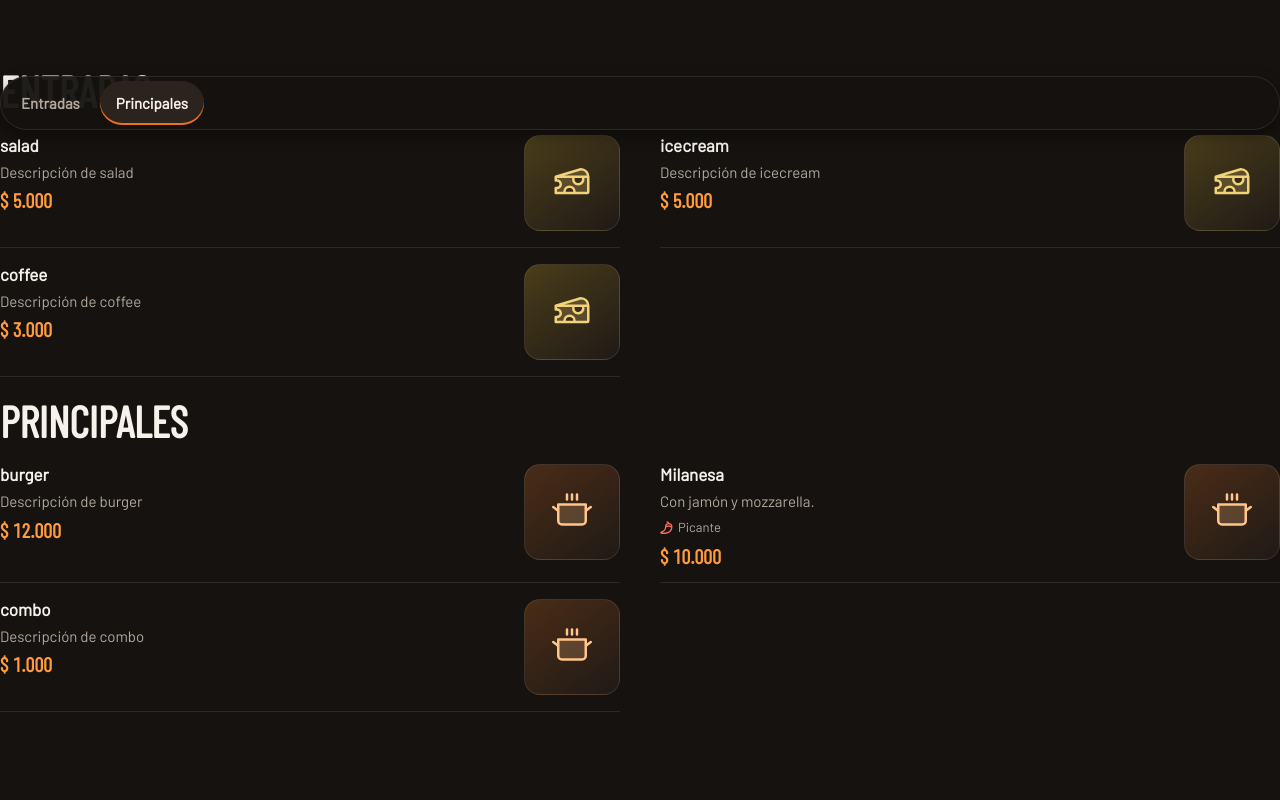
Scenario: DishSheet: ficha del plato (RF2, RF6, RF14-RF20, RF34, RF43) › opciones: máximo, no disponibles y grupos opcionales (RF15, RF17, CL6, CL8) › al llegar al máximo del grupo múltiple las demás se deshabilitan y se anuncia el límite
(page scrolled)
Expected: the navigation bar is shown, [0,76,1279,130]
Click the button "burger Descripción de burger $ 12.000".
click(24, 474)  # box [0,448,620,576]
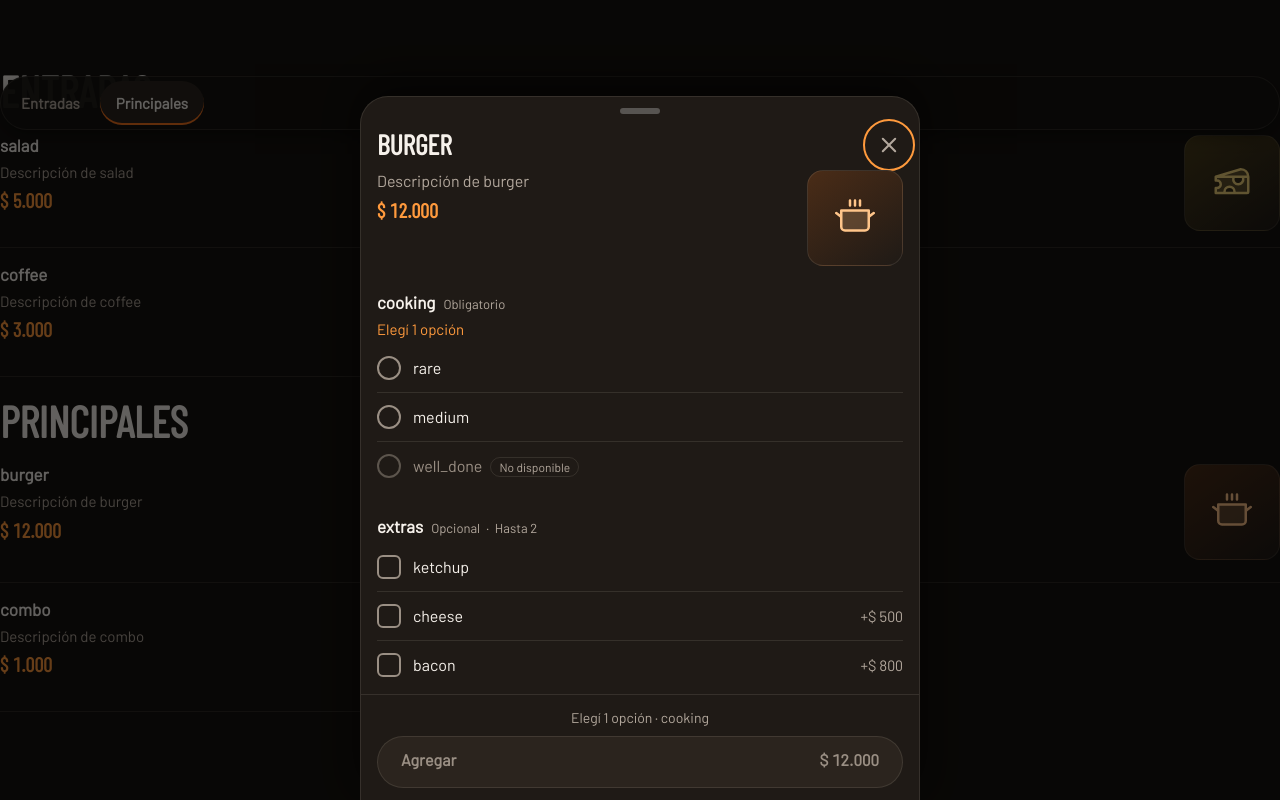
Click the checkbox labelled "ketchup".
click(423, 567)  # box [377,555,469,579]
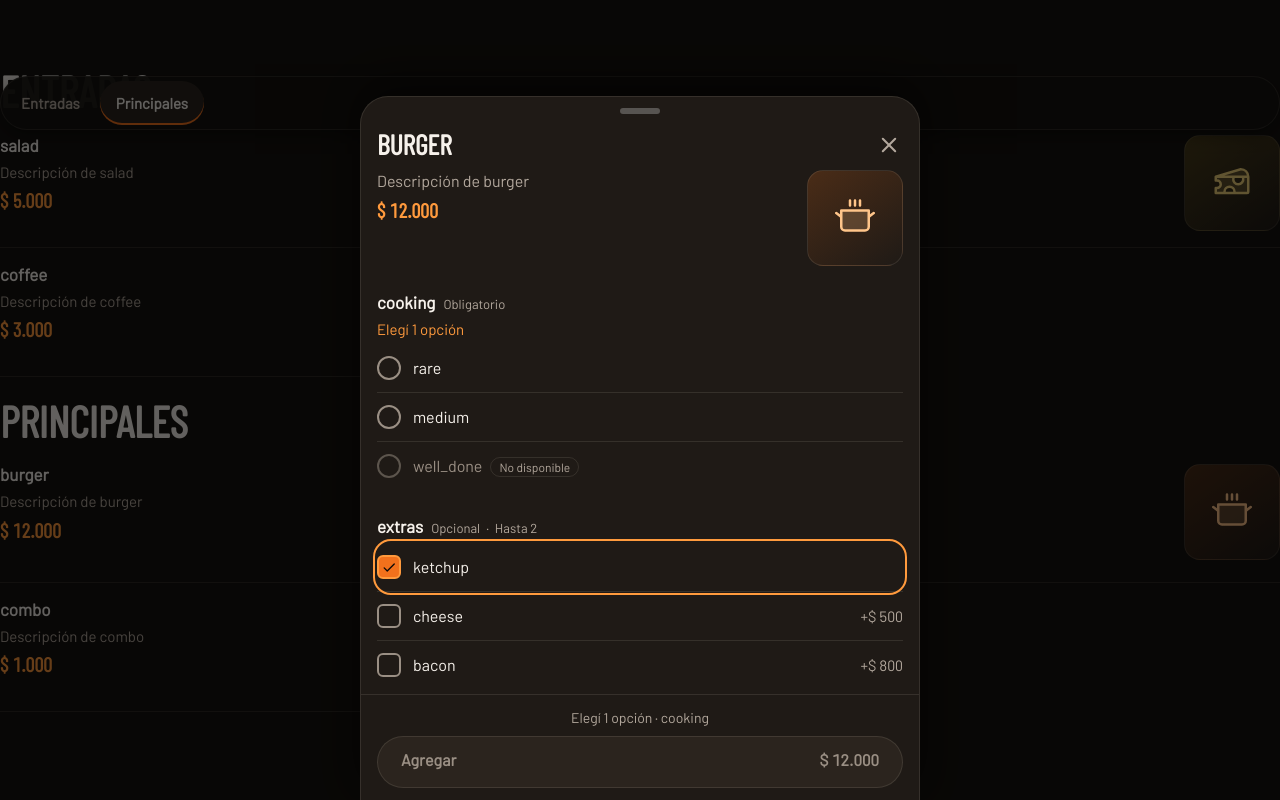
Click the checkbox labelled "cheese +$ 500".
click(438, 616)  # box [377,604,903,628]
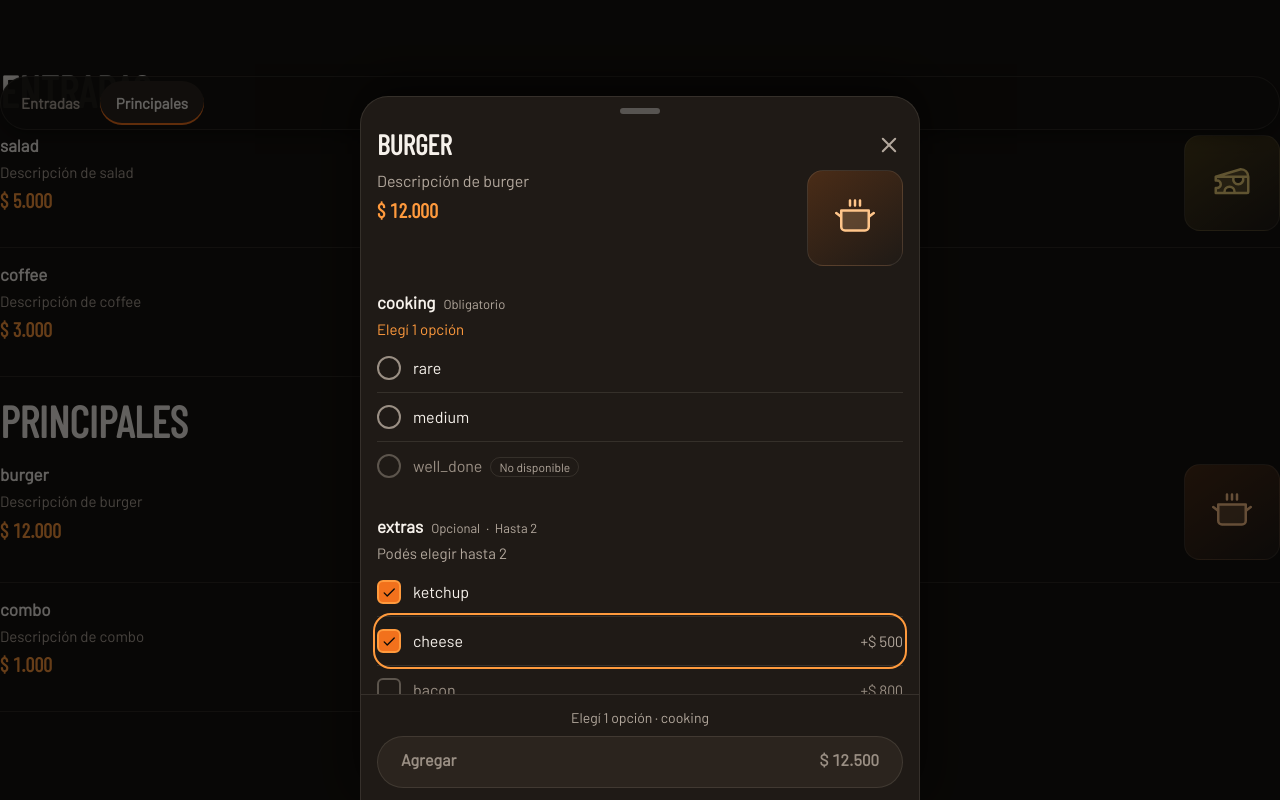
Result: the checkbox labelled "bacon +$ 800" is disabled at [377,678,903,694]
Result: the text "Podés elegir hasta 2" is shown at [377,544,507,562]
